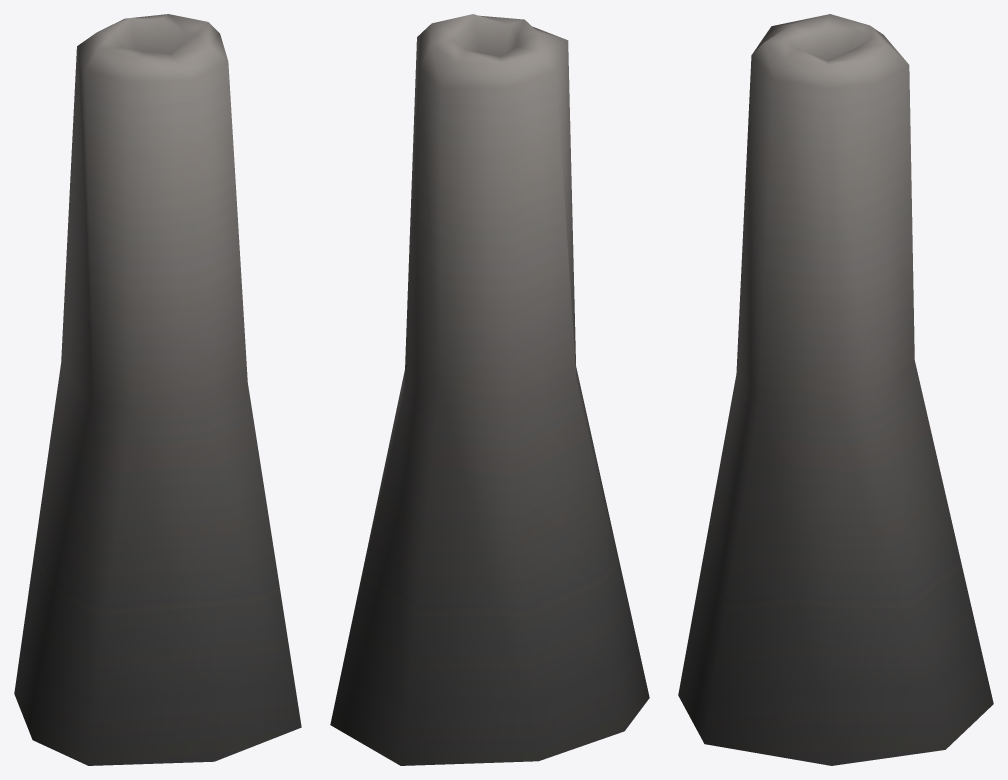
The model's file is m_Vent03_A.fbx.
The picture shows the model from 3 angles, left to right: view 1: azimuth 30°, elevation 25°; view 2: azimuth 150°, elevation 25°; view 3: azimuth 270°, elevation 25°; orthographic projection.
Visible parts, largest first — view 1: m_Vent03_A; view 2: m_Vent03_A; view 3: m_Vent03_A.
Boxes of the visible parts, left/top/right/bottom form: m_Vent03_A: left=14, top=14, right=301, bottom=765; m_Vent03_A: left=330, top=14, right=649, bottom=765; m_Vent03_A: left=678, top=14, right=993, bottom=765.
Size of the model in its own units: 50.48 by 125 by 53.45.
